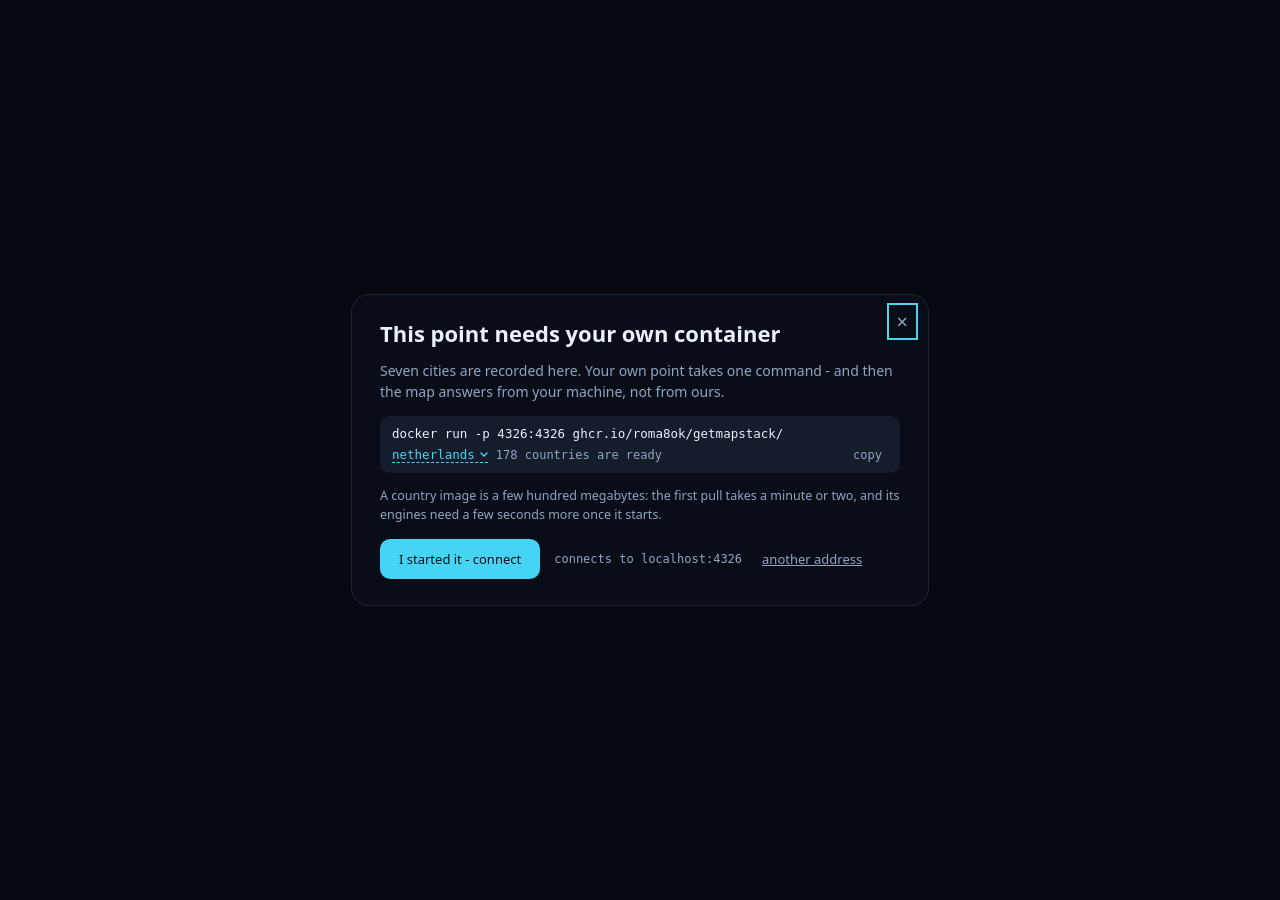
it: RunPanel › the named address gives way to the field that replaces it
Click the button "another address" at [812, 559], box [756,549,868,569]
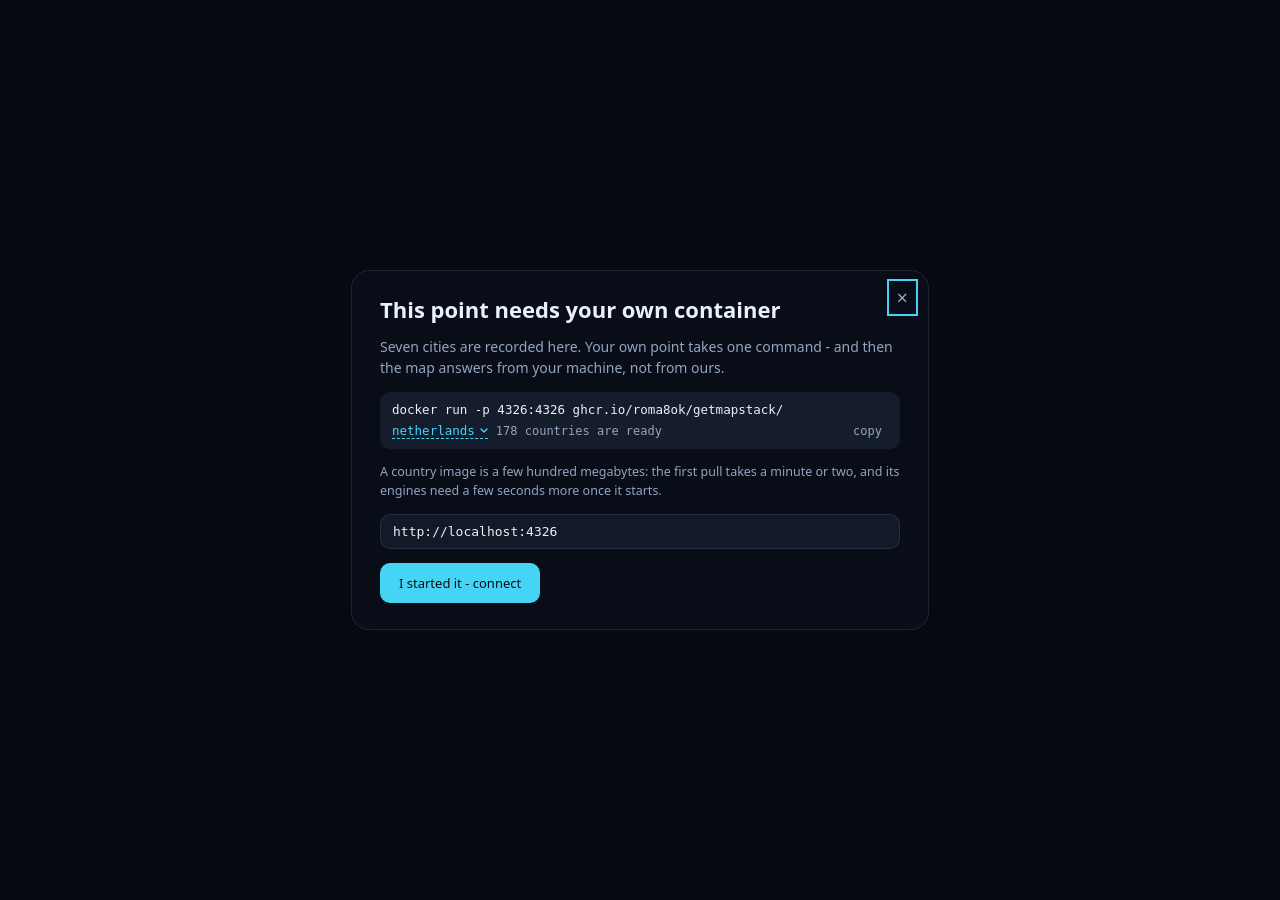
Now the text "connects to localhost:4326" is gone
Now the field named "container address" is shown, box [380,514,900,549]
